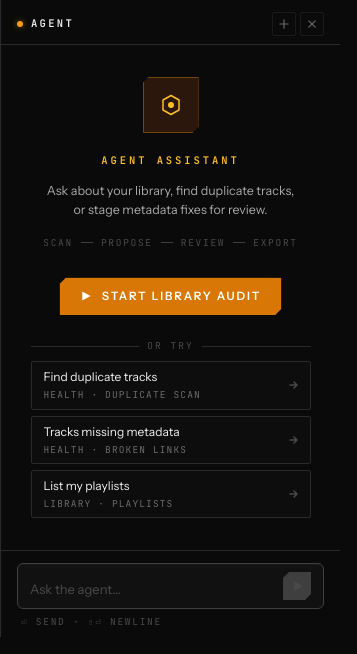
it: ChatPanel › send button enabled when input has text
Type "hello" into the text box with placeholder "Ask the agent…" at coordinates (152, 590), box [30,580,275,600]
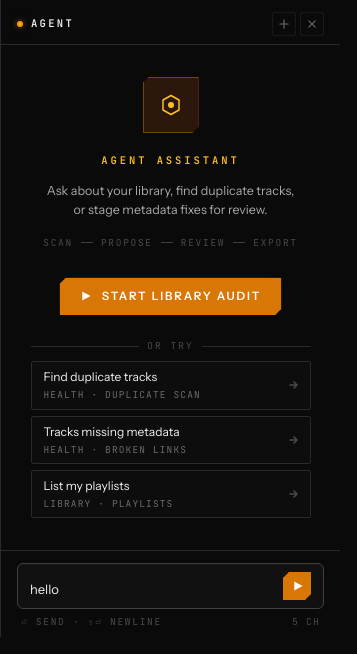
Expected: the button named "Send message" is enabled, [283,572,311,600]
